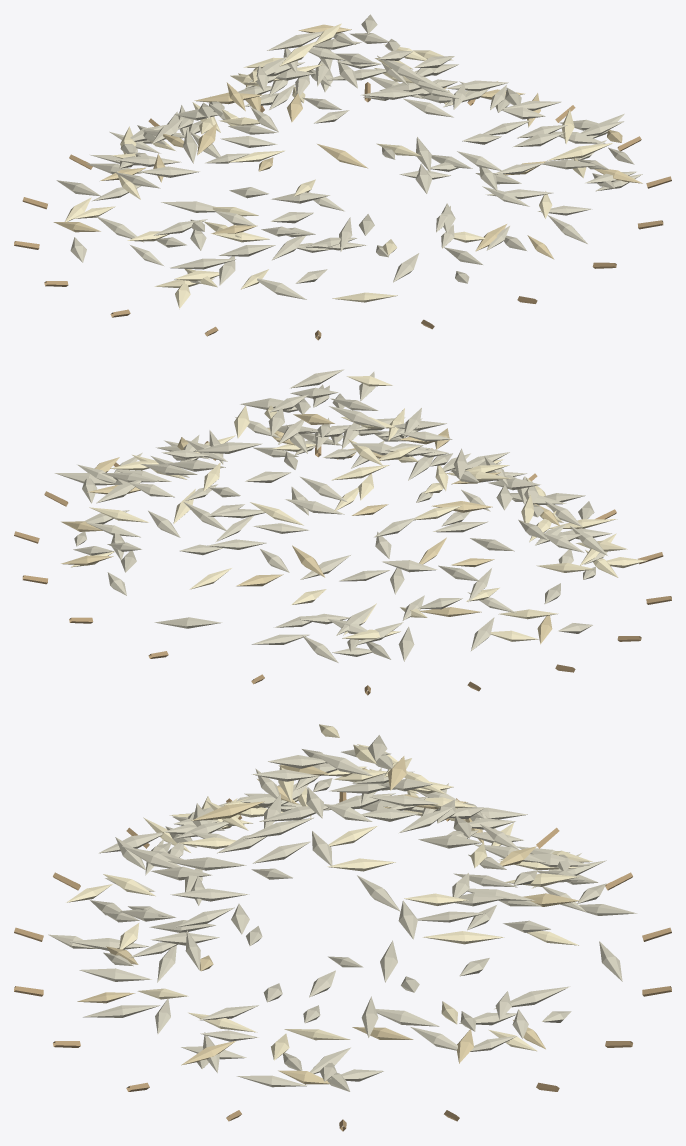
The model's file is rice.glb.
3 views of the same model, one above another, from view 1: azimuth 30°, elevation 25°; view 2: azimuth 150°, elevation 25°; view 3: azimuth 270°, elevation 25° (orthographic). The views are drawn at different scales.
Visible parts, largest first — view 1: rice_trade_good; view 2: rice_trade_good; view 3: rice_trade_good.
Part boxes in pixels (x1,y1,x2,y2): rice_trade_good: (14,14,671,340); rice_trade_good: (14,369,671,695); rice_trade_good: (14,724,671,1131).
Bounding box in the file's own units: 1.68 × 0.5336 × 1.38.
